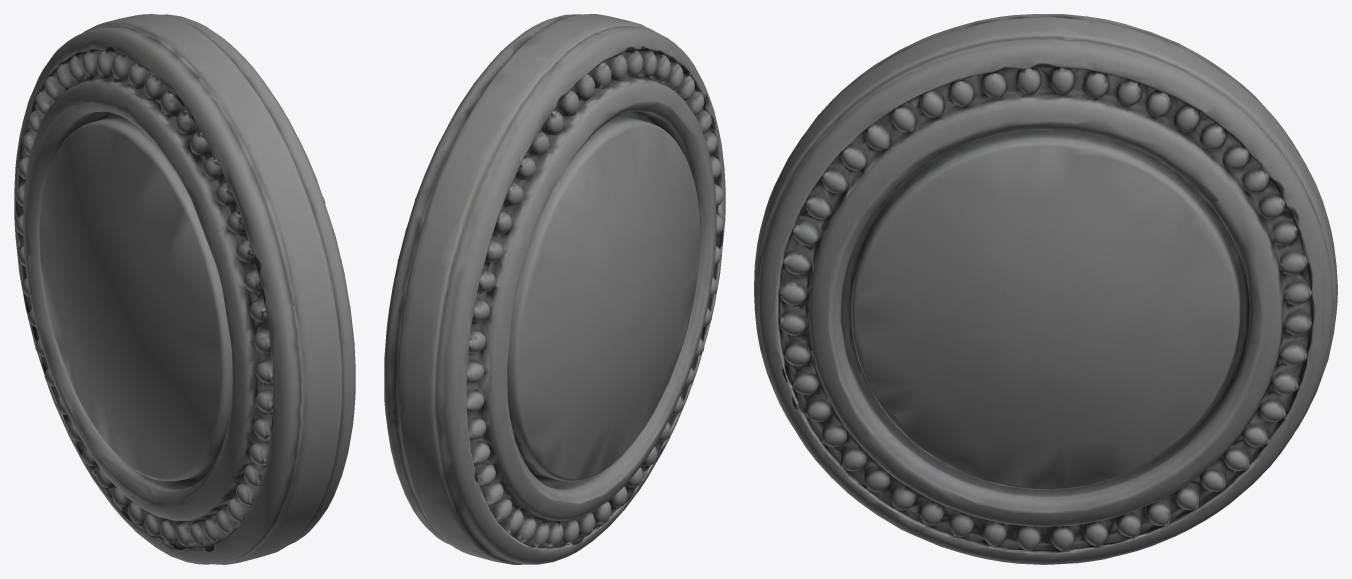
File: btn-lighting.glb
The picture shows the model from 3 angles, left to right: view 1: azimuth 30°, elevation 25°; view 2: azimuth 150°, elevation 25°; view 3: azimuth 270°, elevation 25°; orthographic projection. The views are drawn at different scales.
Parts seen in each view (by area): view 1: tripo_node_e1371a8b-14a1-4247-9a57-d30ba47695c1; view 2: tripo_node_e1371a8b-14a1-4247-9a57-d30ba47695c1; view 3: tripo_node_e1371a8b-14a1-4247-9a57-d30ba47695c1.
Part boxes in pixels (left/top/right/bottom): tripo_node_e1371a8b-14a1-4247-9a57-d30ba47695c1: left=14, top=14, right=355, bottom=564; tripo_node_e1371a8b-14a1-4247-9a57-d30ba47695c1: left=384, top=14, right=725, bottom=564; tripo_node_e1371a8b-14a1-4247-9a57-d30ba47695c1: left=754, top=14, right=1337, bottom=564.
Bounding box in the file's own units: 0.1049 × 0.3 × 0.2995.
1 material, 1 textured.
